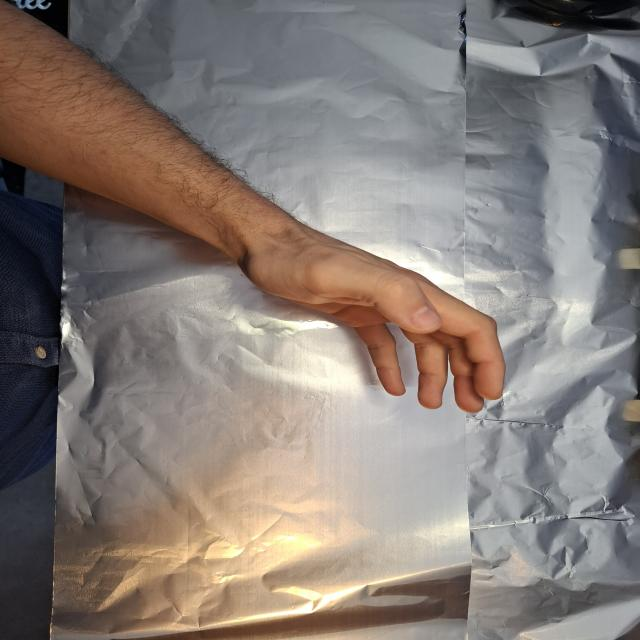glove_off: (227, 210, 508, 415)
